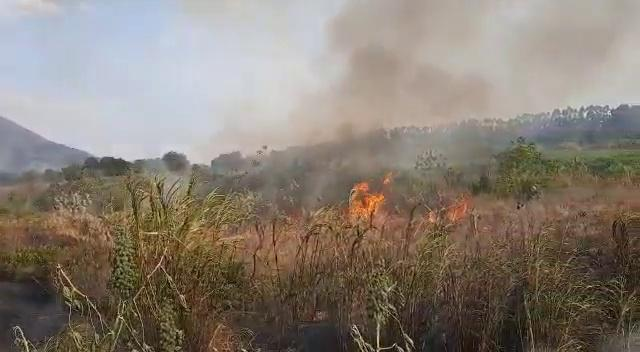fire: (349, 183, 380, 216)
smoke: (341, 6, 446, 102)
